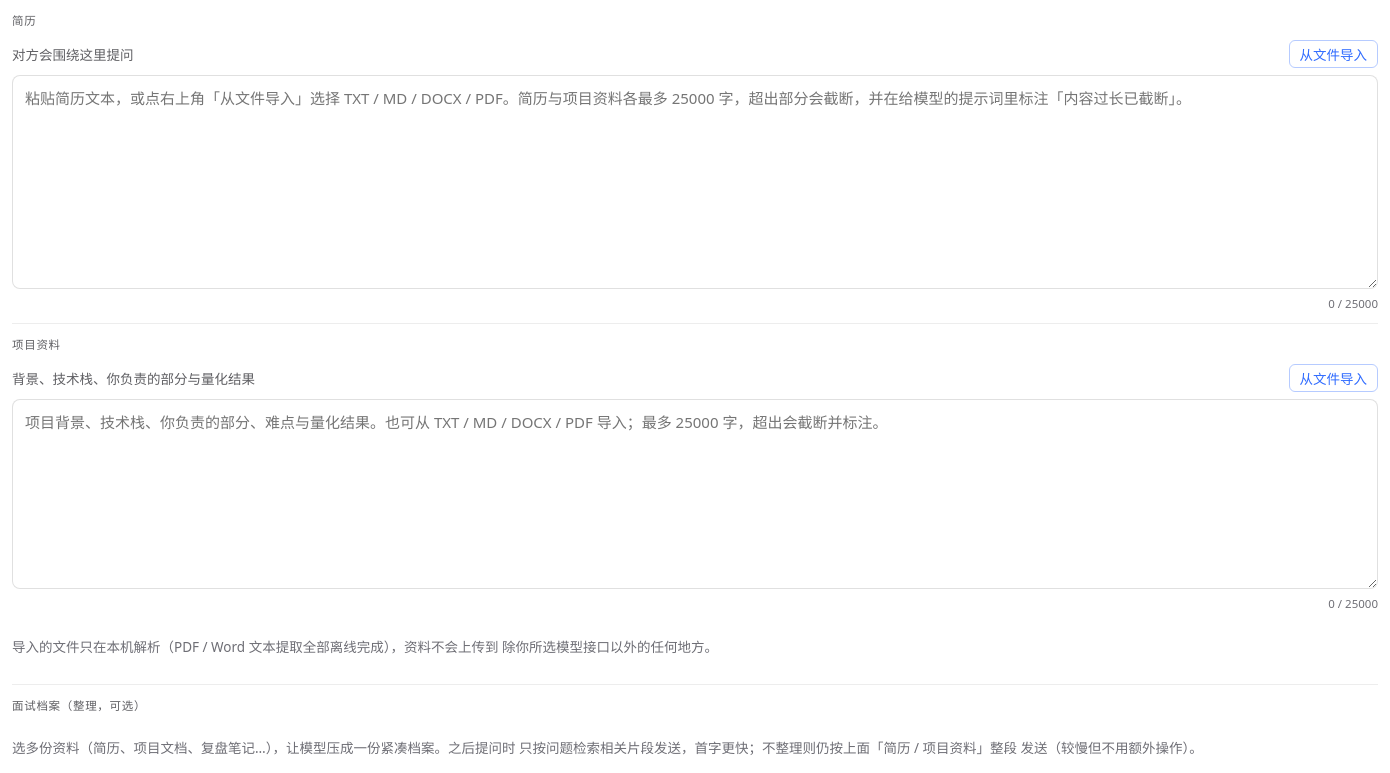
ProfileCard —— 从文件导入 › 对话框本身抛错时也落到同一状态行
Click the button "从文件导入" in the row of "对方会围绕这里提问": (1333, 54) [1288, 40, 1378, 68]
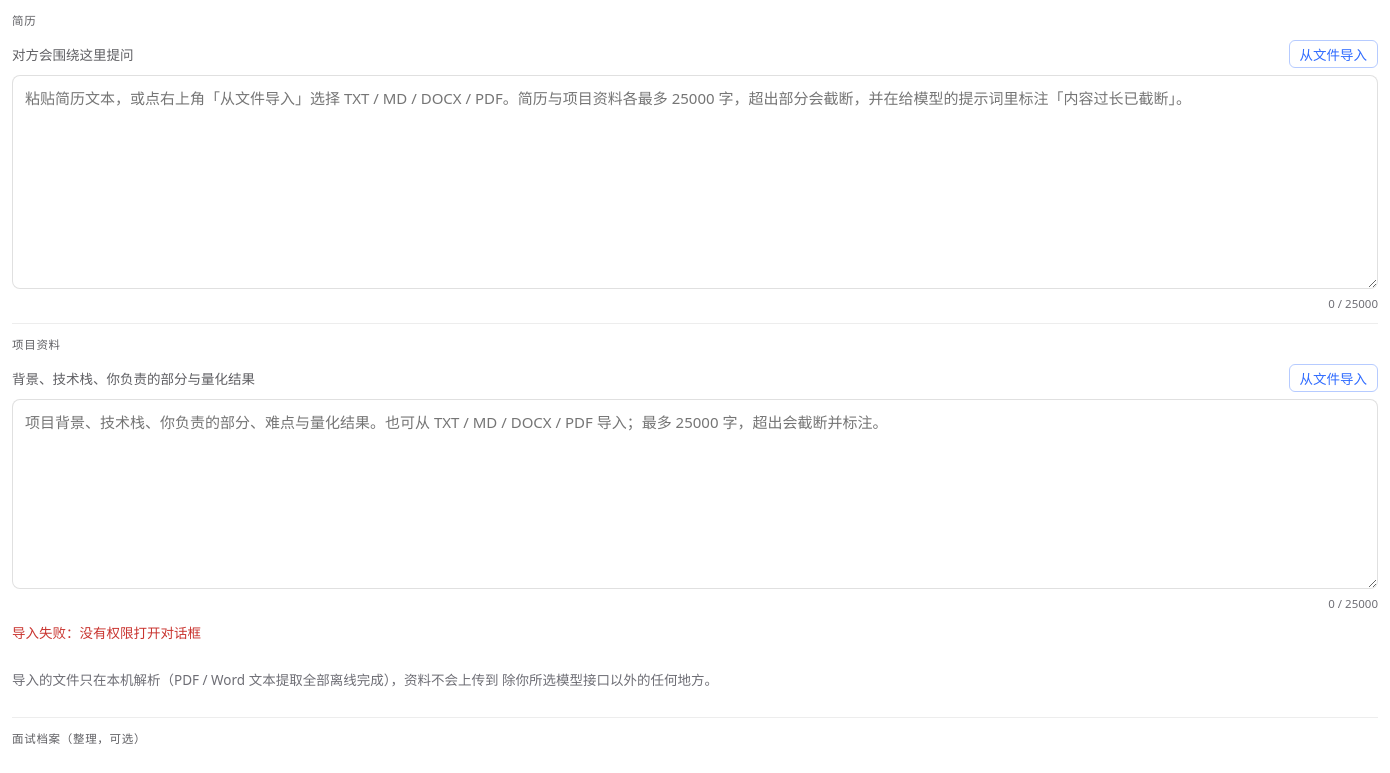
Result: the text "导入失败：没有权限打开对话框" is shown at [12, 624, 201, 642]
